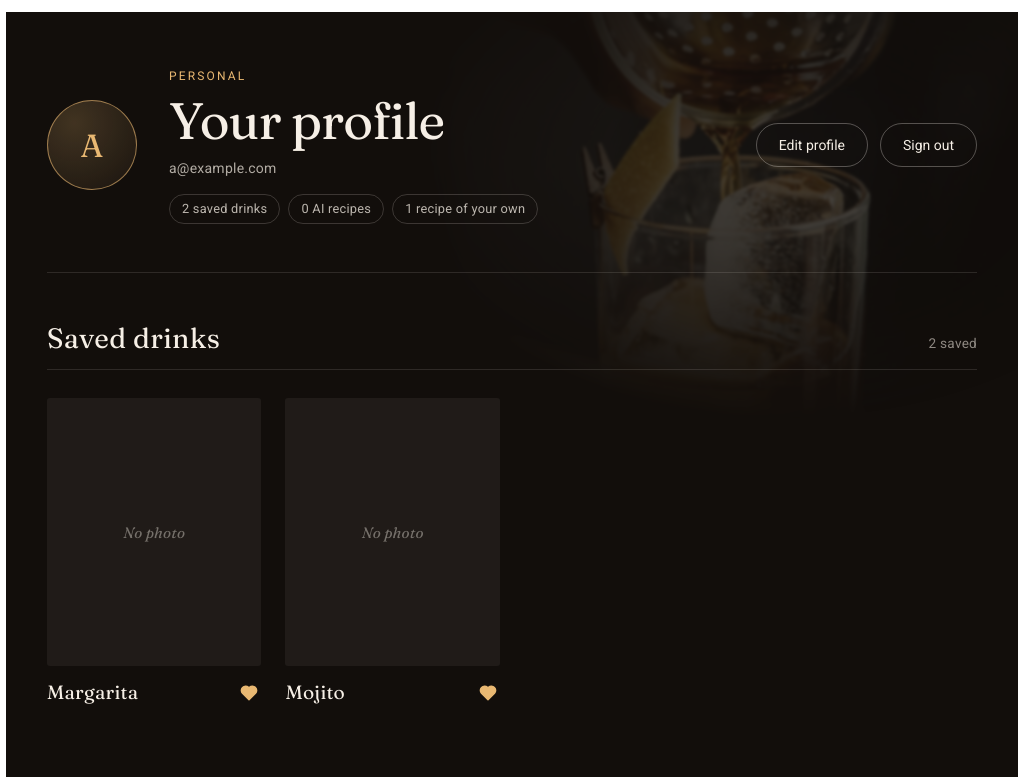
it: PersonalComponent › Edit profile › shows why a name wasn’t saved and keeps what was typed
Click the button "Edit profile".
click(812, 145)  # box [756, 123, 868, 167]
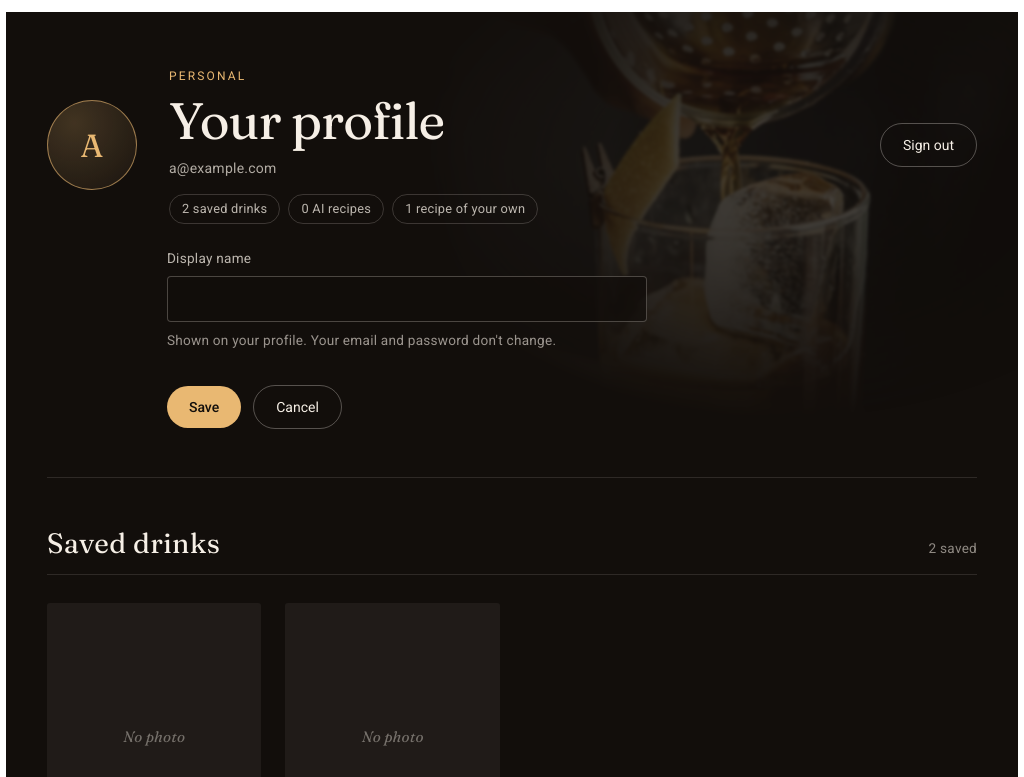
Expected: the field with id "display-name" is empty, [167, 276, 647, 322]
Submit the form with class "name-form", box [167, 248, 647, 428]
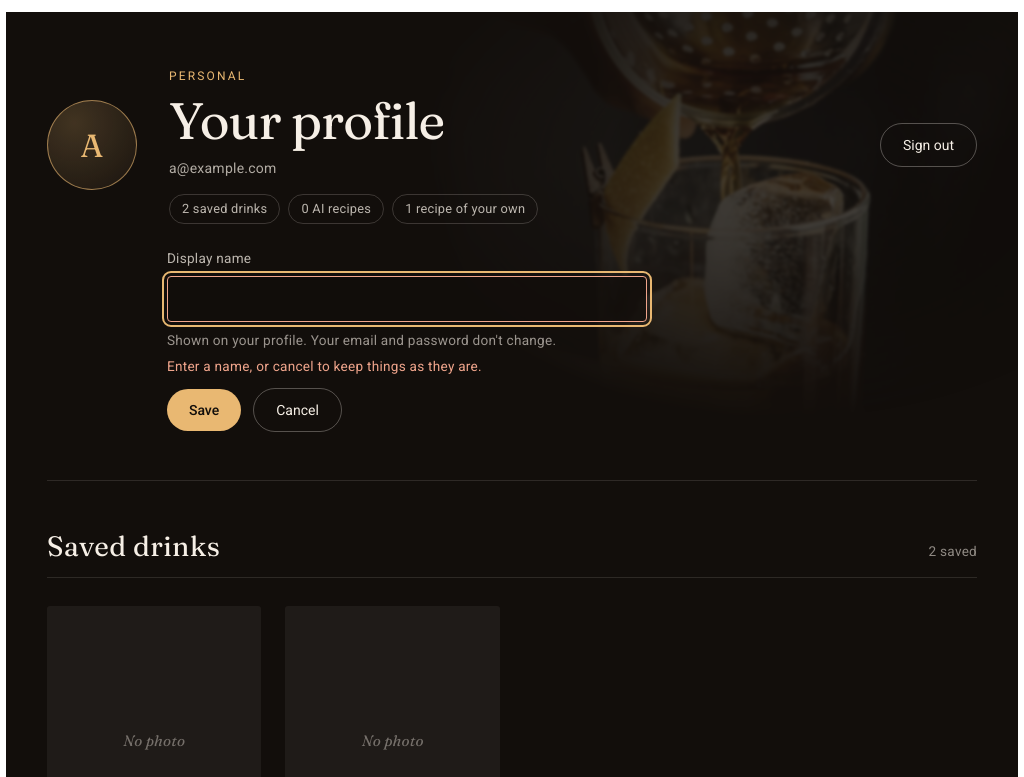
Expected: the form with class "name-form" is shown, [167, 248, 647, 432]
Expected: the message with class "name-error" shows "Enter a name", [167, 358, 482, 374]
